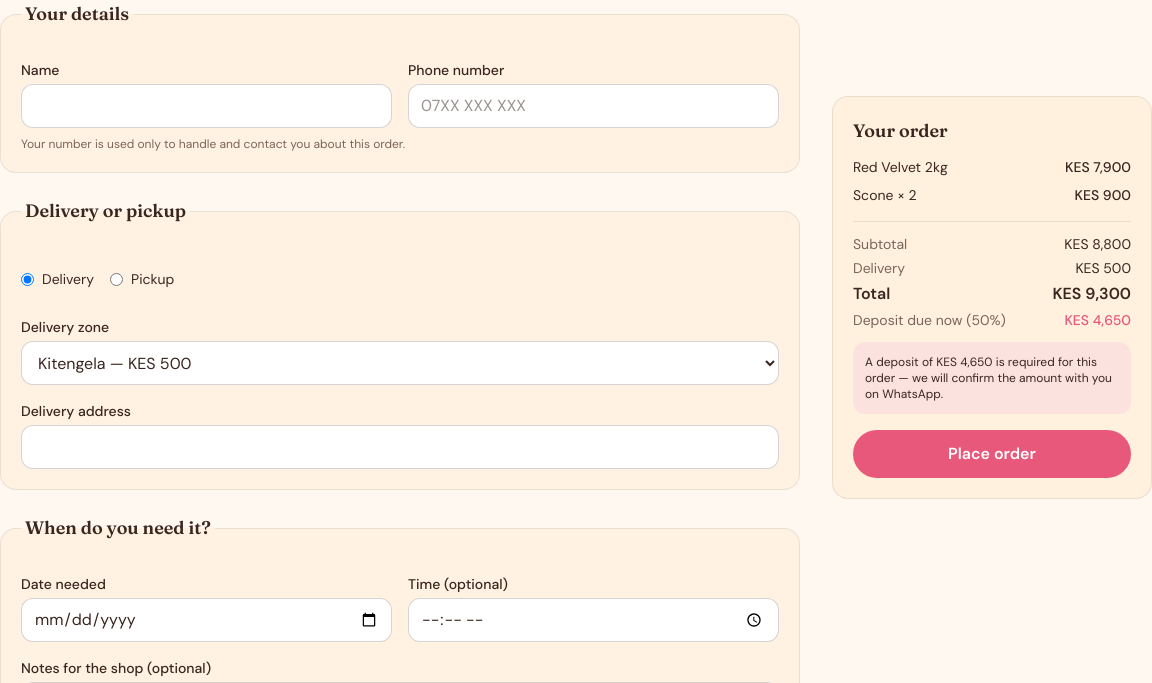
Scenario: CheckoutForm › shows the server's error message when the order is rejected
Type "Wanjiku" into the field labelled "Name" at point(206, 106), box [21,84,392,128]
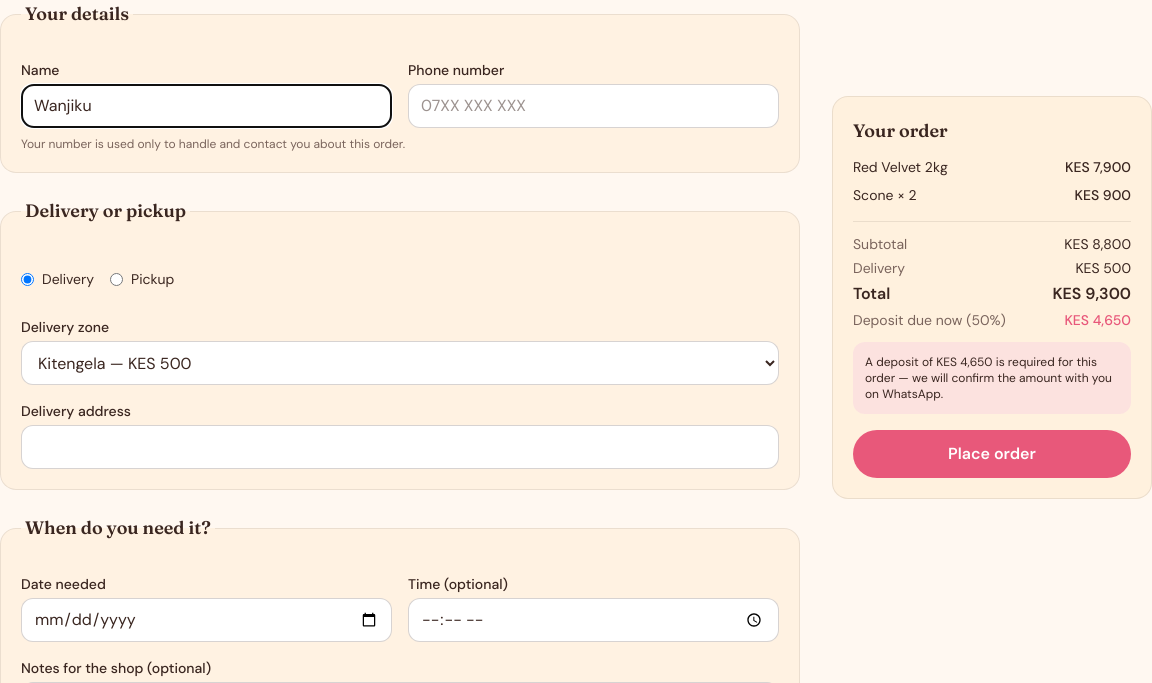
Type "0712345678" into the field labelled "Phone number" at point(594, 106), box [408,84,779,128]
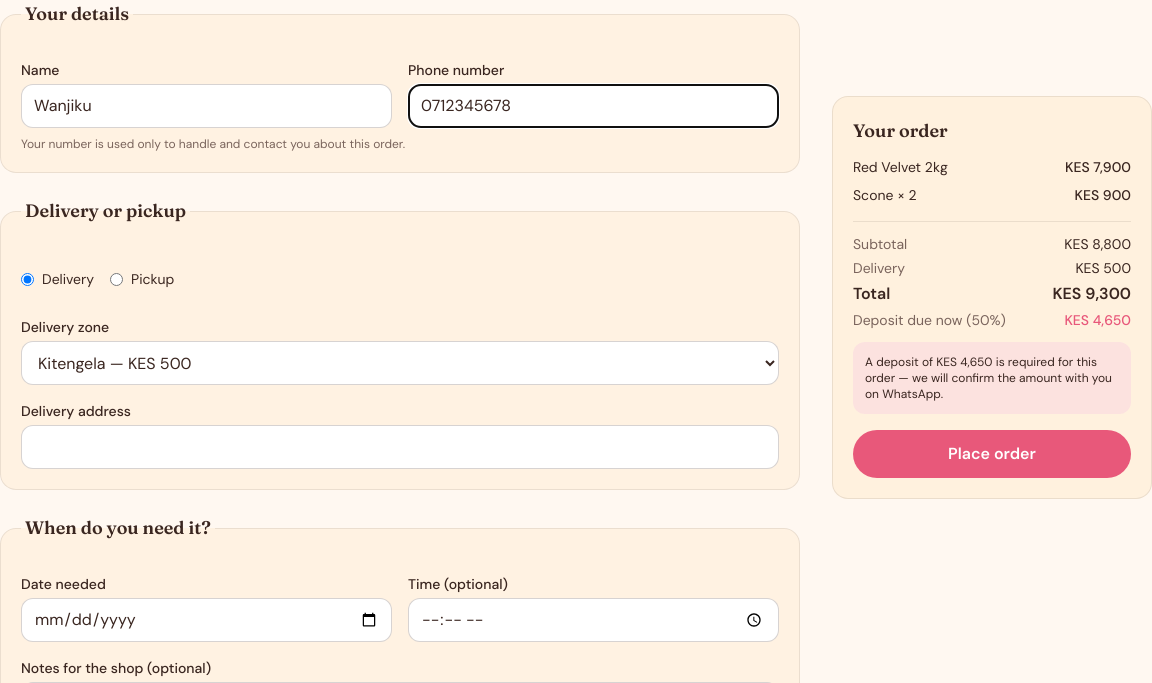
Select "Kitengela — KES 500" in the dropdown labelled "Delivery zone" at point(400, 363), box [21,341,779,385]
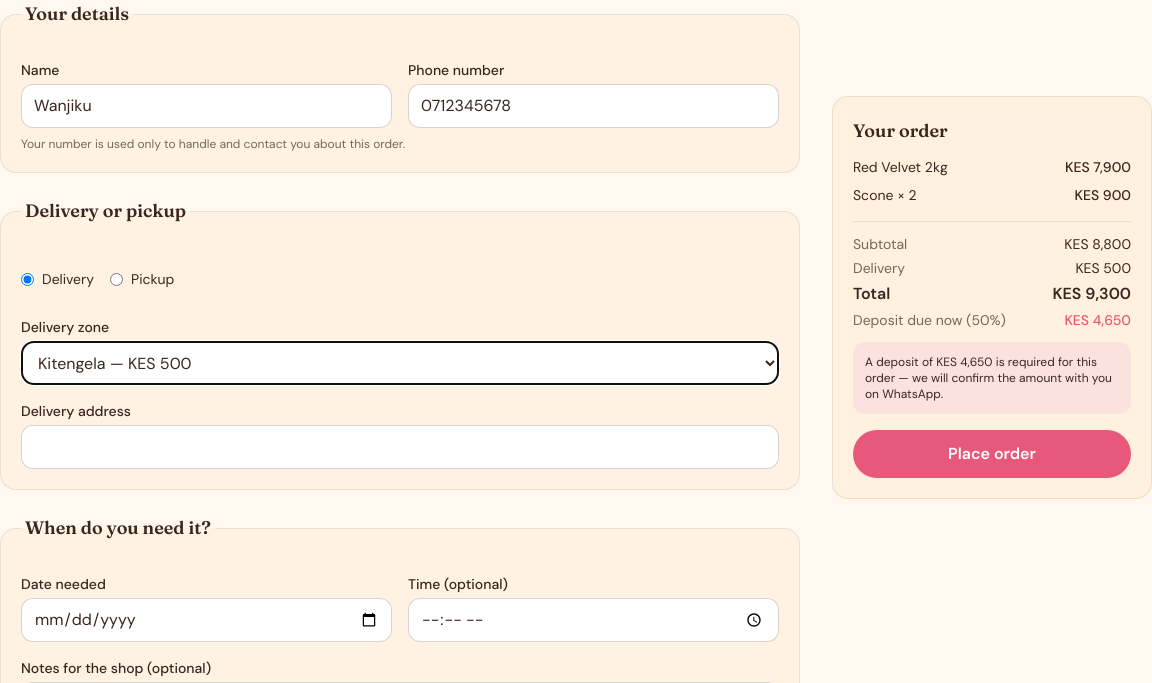
Type "Mwangaza Road" into the field labelled "Delivery address" at point(400, 447), box [21,425,779,469]
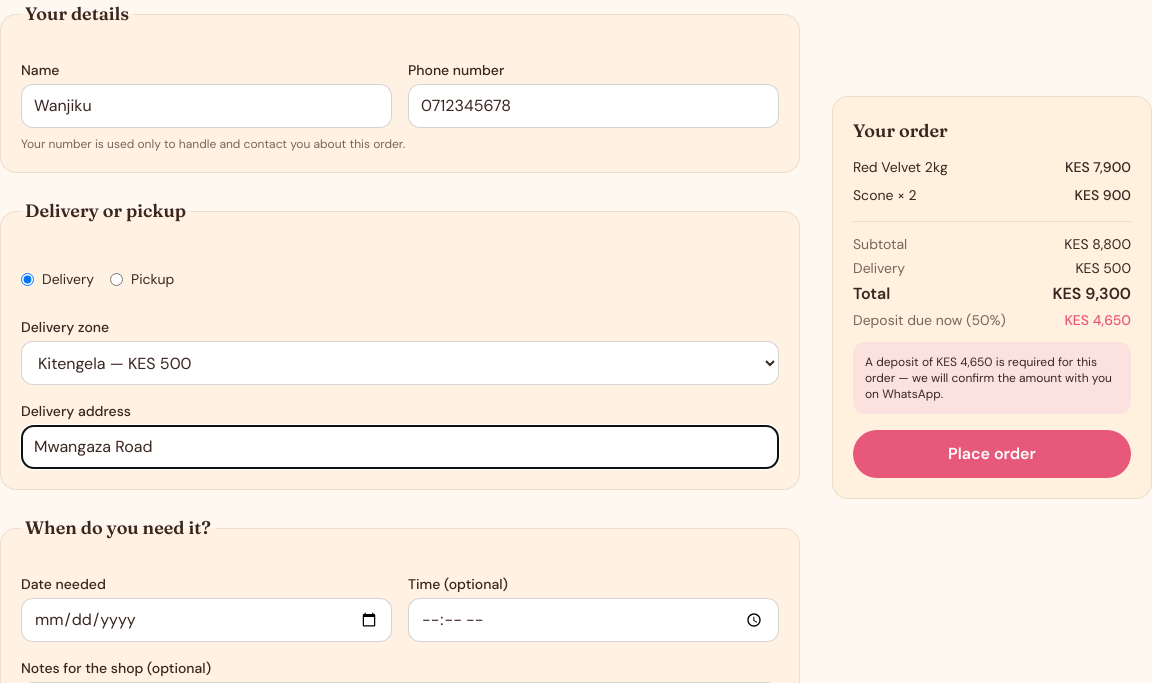
Type "2099-06-15" into the date field labelled "Date needed" at point(206, 620), box [21,598,392,642]
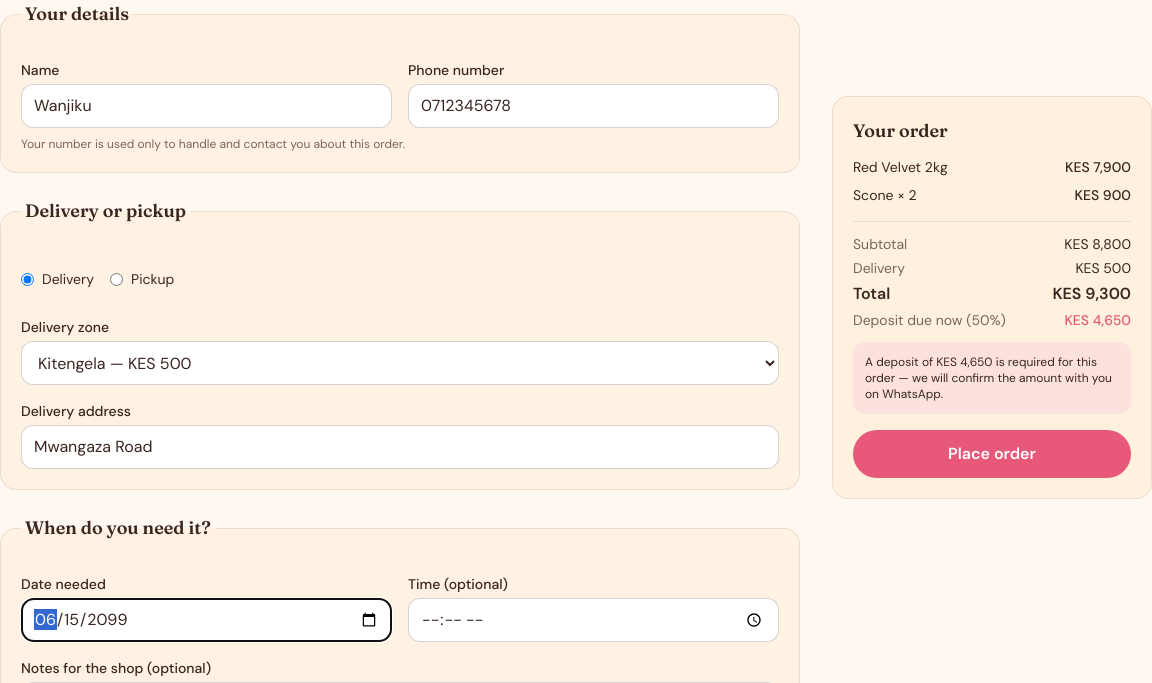
Click the button "Place order" at point(992, 454), box [853,430,1131,478]
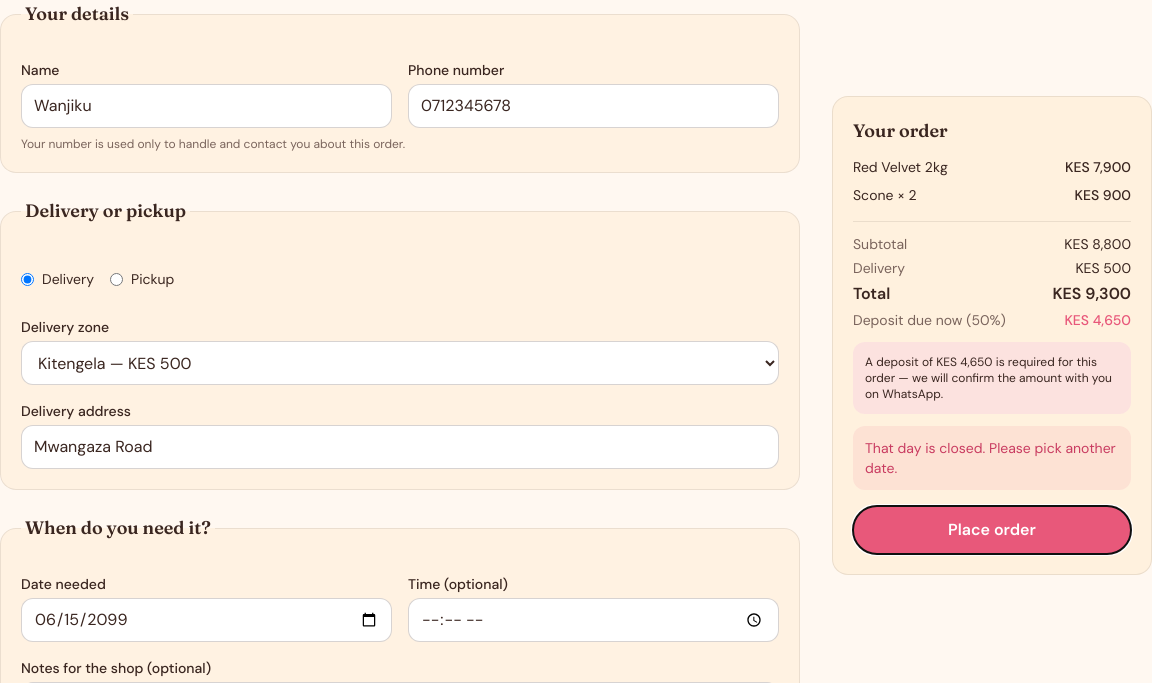
Check: the message shows "closed", box [865,439,1116,477]
